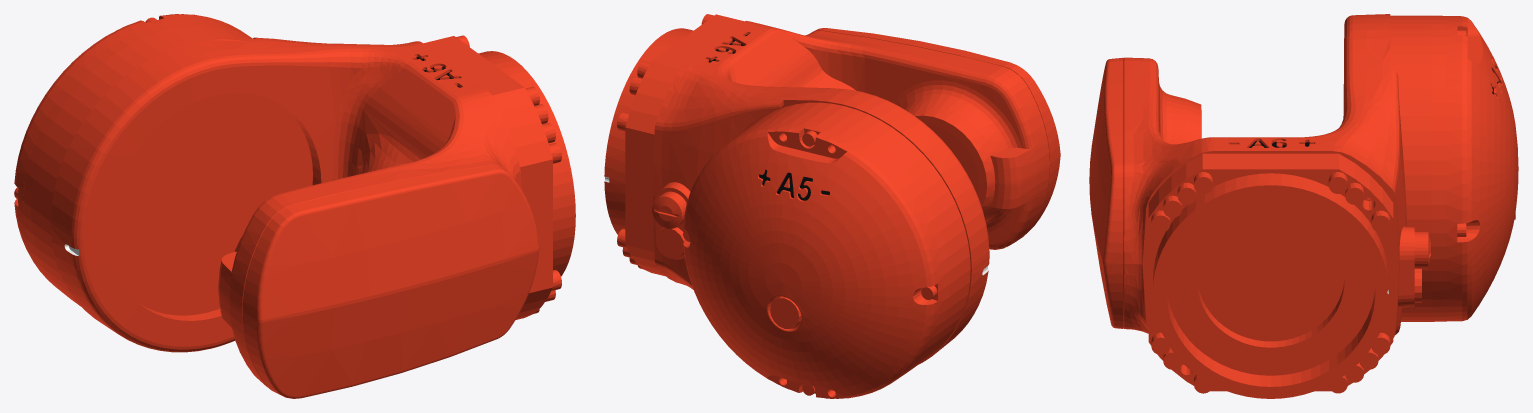
3 renders of one model, left to right at view 1: azimuth 30°, elevation 25°; view 2: azimuth 150°, elevation 25°; view 3: azimuth 270°, elevation 25°, orthographic. The views are drawn at different scales.
Parts seen in each view (by area): view 1: link_5; view 2: link_5; view 3: link_5.
Boxes of the visible parts, box(x1,y1,x2,y2) form: link_5: box(14, 14, 575, 398); link_5: box(604, 14, 1060, 398); link_5: box(1089, 14, 1518, 398).
Bounding box in the file's own units: 0.3031 × 0.2911 × 0.21.
